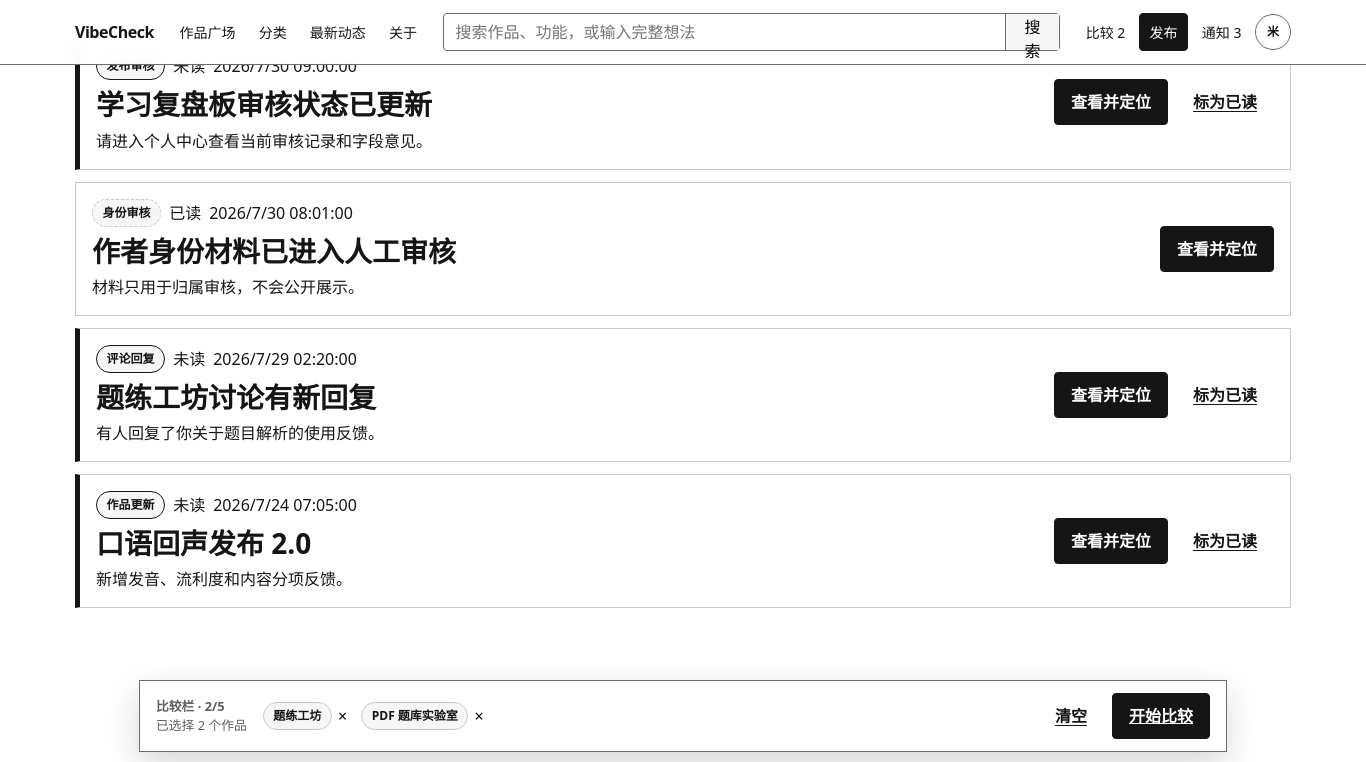
Test: NotificationsPage › lists only high-value notifications and keeps the global unread count in sync
(page scrolled)
Expected: the link "通知 3" is shown, [1202,22,1242,42]
Click the button "标为已读" in the row of "题练工坊讨论有新回复": point(1225, 395) [1176,372,1274,418]
(page scrolled)
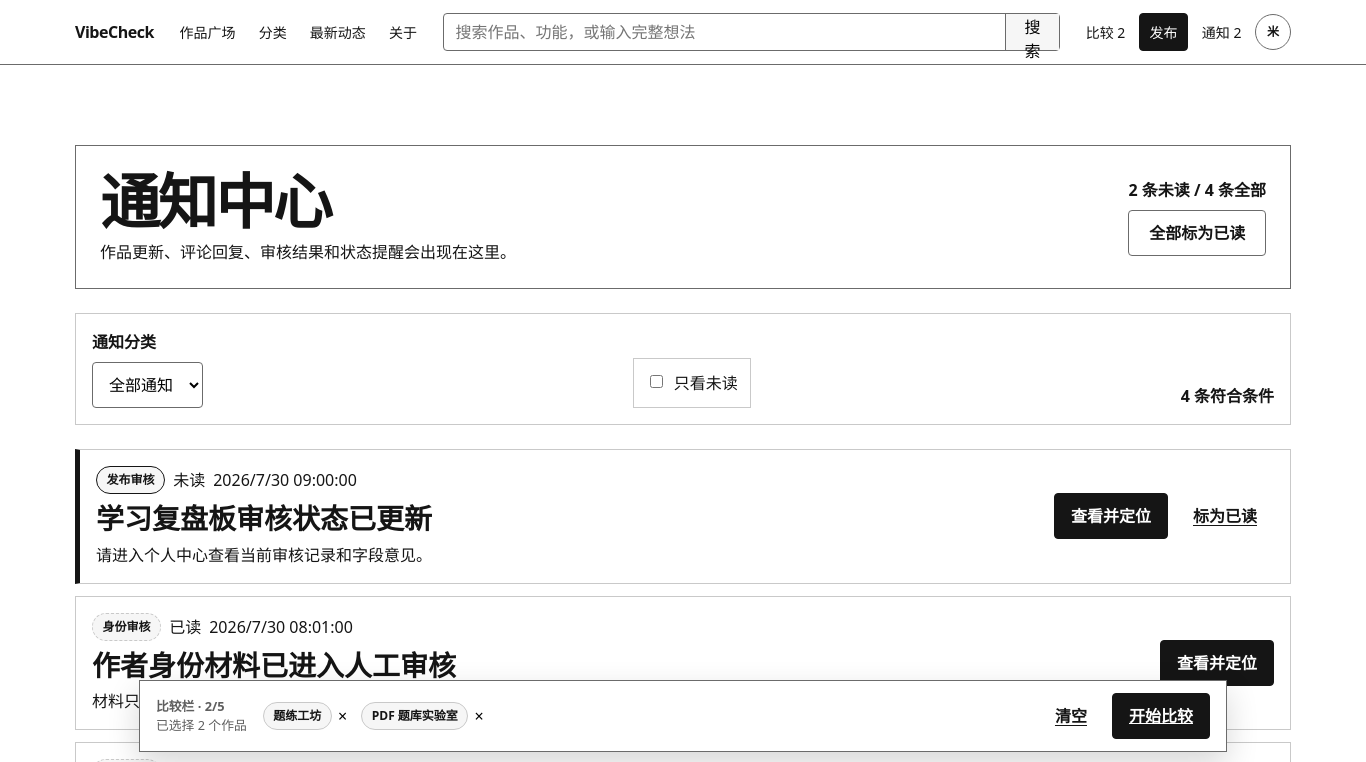
Expected: the link "通知 2" is shown, [1202,22,1242,42]
Click the button "全部标为已读": point(1197, 233) [1128,210,1266,256]
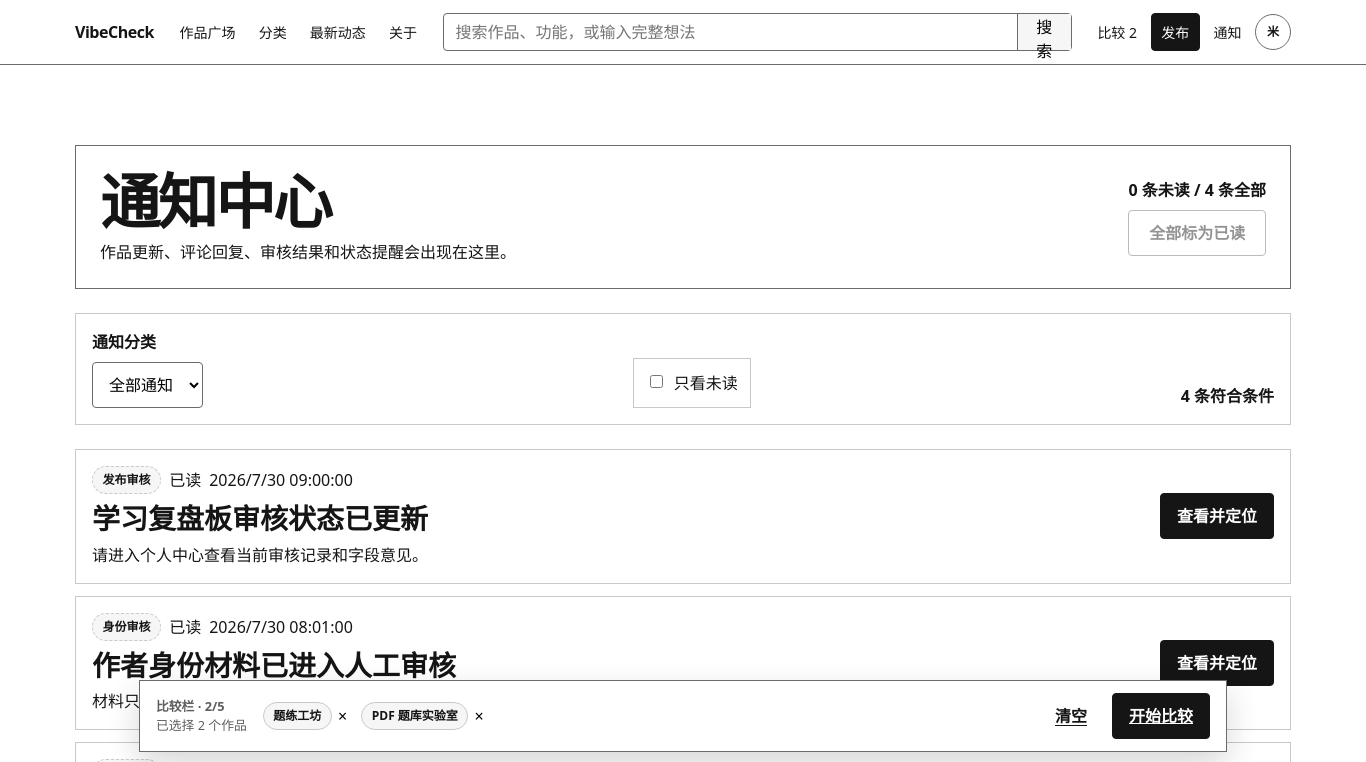
Expected: the link "通知" is shown, [1213,22,1241,42]
Expected: the text "0 条未读 / 4 条全部" is shown, [1128,178,1266,202]
